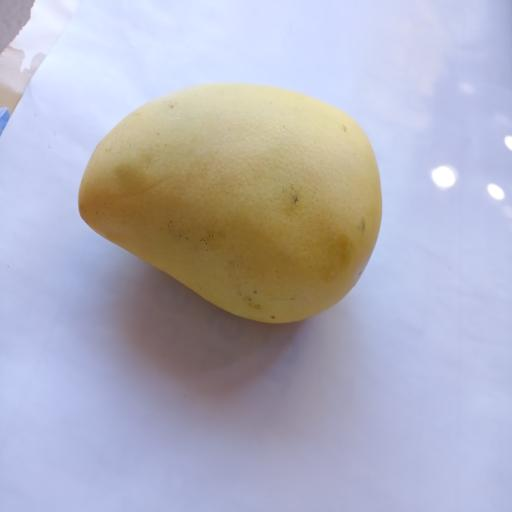mango-ripe: (74, 73, 400, 351)
